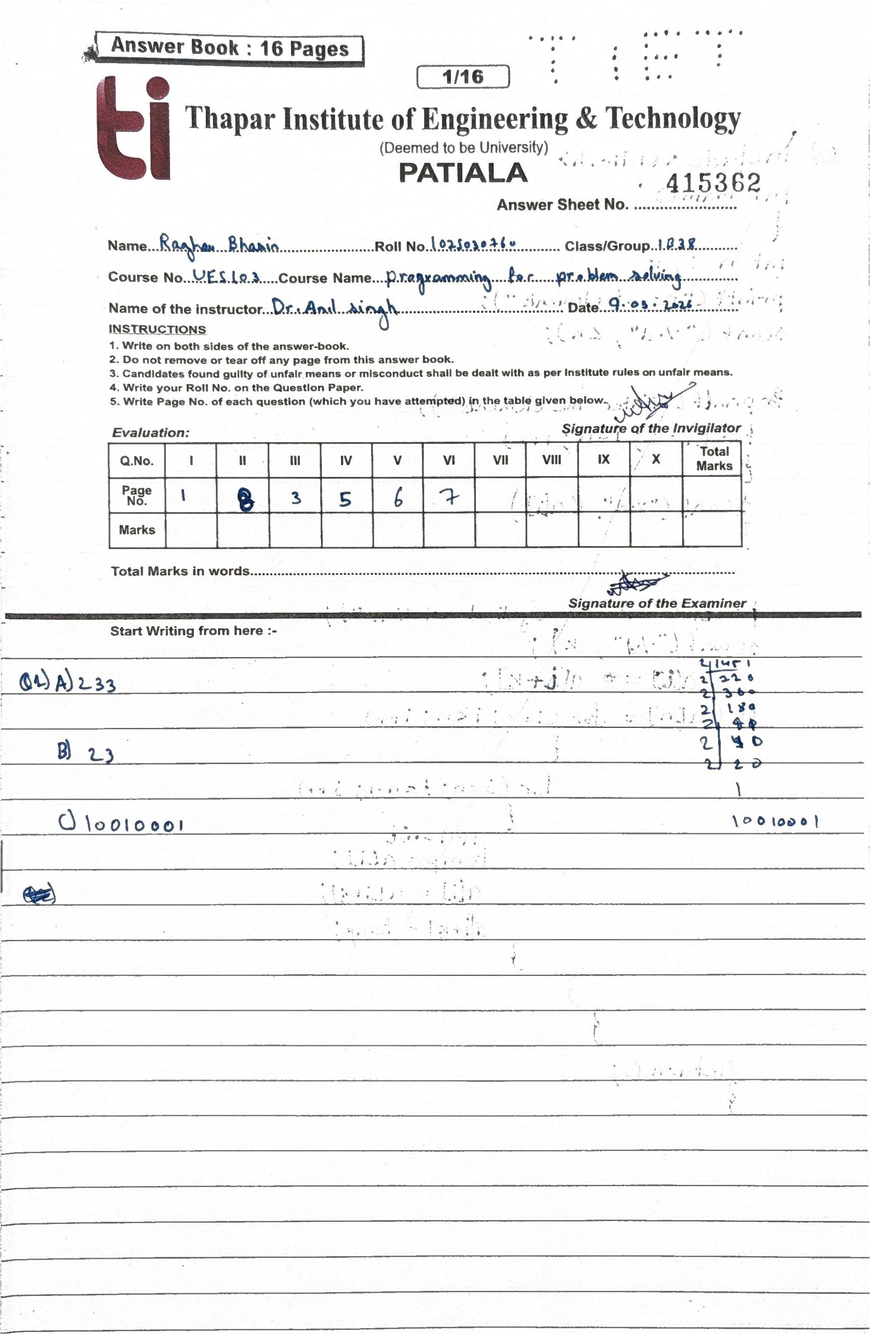cuttings: (22, 881, 57, 906)
